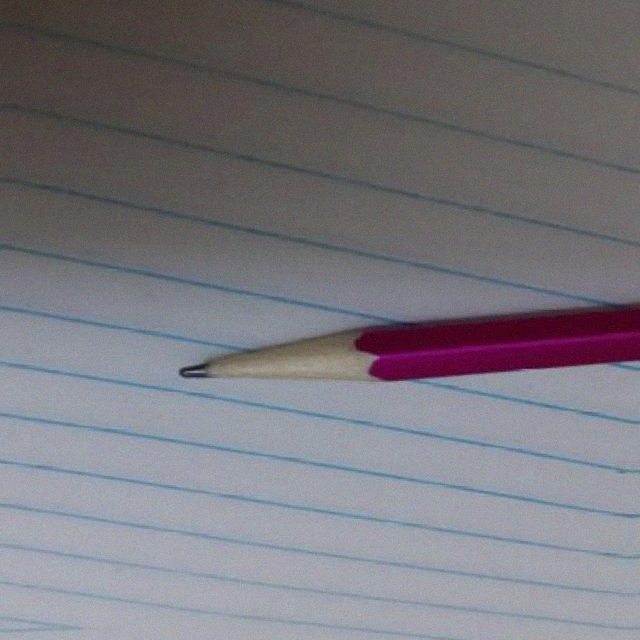pencil: (179, 330, 397, 400)
